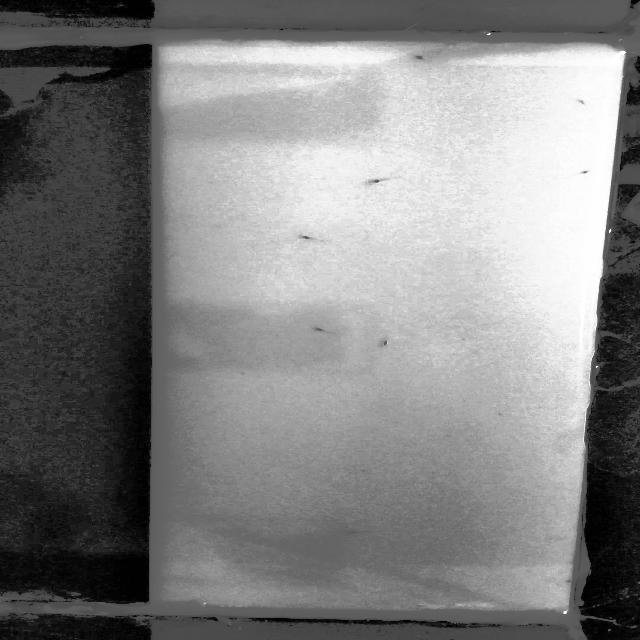shrimp: (370, 338, 404, 354), (313, 324, 346, 340), (364, 170, 396, 186), (339, 523, 374, 537), (572, 87, 594, 107), (568, 167, 599, 176), (296, 232, 320, 240)
